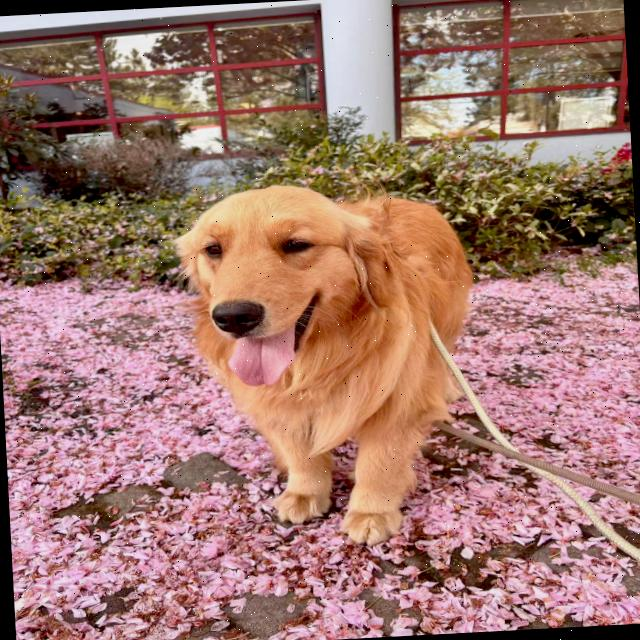golden_retriever_dog: (153, 175, 420, 409)
